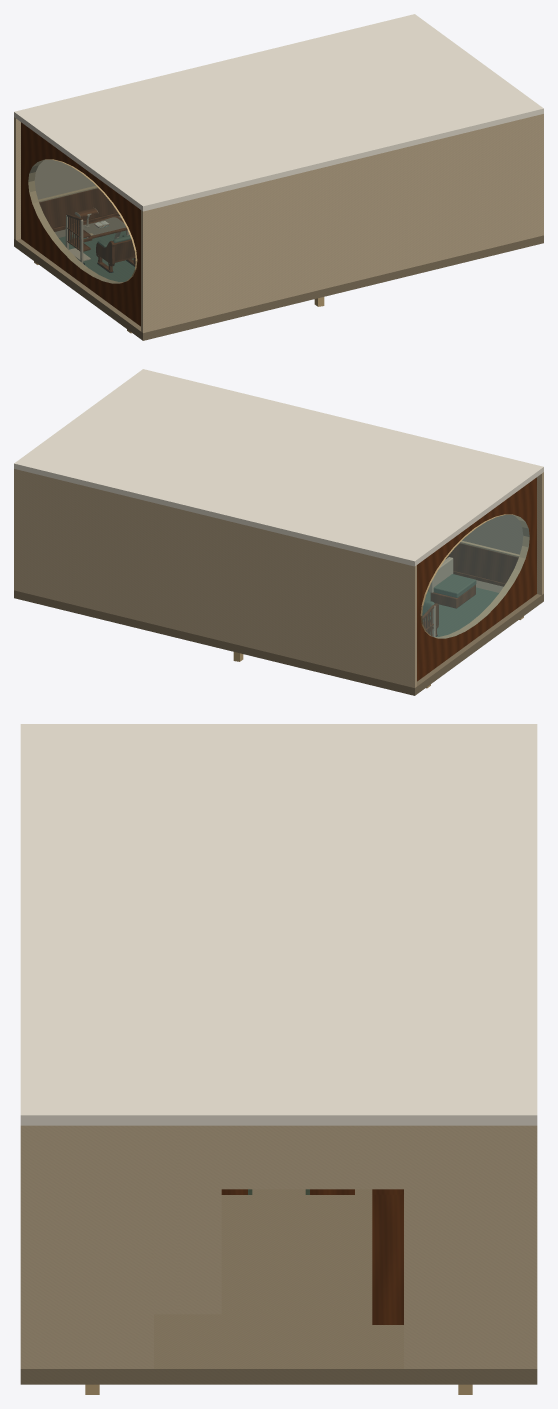
File: NG560_AtriumInterior_r001.glb
The picture shows the model from 3 angles, top to bottom: view 1: azimuth 30°, elevation 25°; view 2: azimuth 150°, elevation 25°; view 3: azimuth 270°, elevation 25°; orthographic projection. The views are drawn at different scales.
Parts seen in each view (by area): view 1: NG560_RuntimeBatch_001, NG560_OvalAtriumGlass, NG560_RuntimeBatch_002, NG560_RoomFloor, NGA_560_South_LowPanel, NG560_RuntimeBatch_004, NGA_560_OutlookFloorInlay, NG560_RuntimeBatch_028, NG560_RuntimeBatch_007, NG560_RuntimeBatch_008, NG560_LibraryStudyEdge__SINGLE_inset_stone_writing_surface; view 2: NG560_RuntimeBatch_001, NG560_OvalAtriumGlass, NG560_RuntimeBatch_002, NG560_RoomFloor, NGA_560_North_LowPanel, NGA_560_OutlookFloorInlay, NG560_RuntimeBatch_004, NGA_560_ViewSeat_Cushion, NGA_560_ViewSeat_Base; view 3: NG560_RuntimeBatch_001, NG560_RoomFloor, NG560_RuntimeBatch_002.
Part boxes in pixels (x1,y1,x2,y2): NG560_RuntimeBatch_001: (14, 14, 543, 332); NG560_OvalAtriumGlass: (28, 160, 135, 283); NG560_RuntimeBatch_002: (21, 122, 140, 326); NG560_RoomFloor: (14, 216, 543, 340); NGA_560_South_LowPanel: (39, 188, 117, 228); NG560_RuntimeBatch_004: (28, 159, 324, 333); NGA_560_OutlookFloorInlay: (59, 230, 134, 281); NG560_RuntimeBatch_028: (96, 239, 135, 272); NG560_RuntimeBatch_007: (66, 214, 127, 251); NG560_RuntimeBatch_008: (65, 215, 129, 263); NG560_LibraryStudyEdge__SINGLE_inset_stone_writing_surface: (83, 217, 125, 235); NG560_RuntimeBatch_001: (14, 369, 543, 687); NG560_OvalAtriumGlass: (422, 515, 529, 638); NG560_RuntimeBatch_002: (417, 477, 536, 681); NG560_RoomFloor: (14, 580, 543, 695); NGA_560_North_LowPanel: (446, 543, 518, 583); NGA_560_OutlookFloorInlay: (425, 587, 498, 636); NG560_RuntimeBatch_004: (233, 514, 529, 688); NGA_560_ViewSeat_Cushion: (433, 574, 476, 597); NGA_560_ViewSeat_Base: (430, 585, 475, 608); NG560_RuntimeBatch_001: (20, 724, 537, 1368); NG560_RoomFloor: (20, 1189, 537, 1384); NG560_RuntimeBatch_002: (221, 1189, 403, 1324).
Bounding box in the file's own units: 12.9 × 4.91 × 7.2.
Materials: 44 (20 with a texture image).
